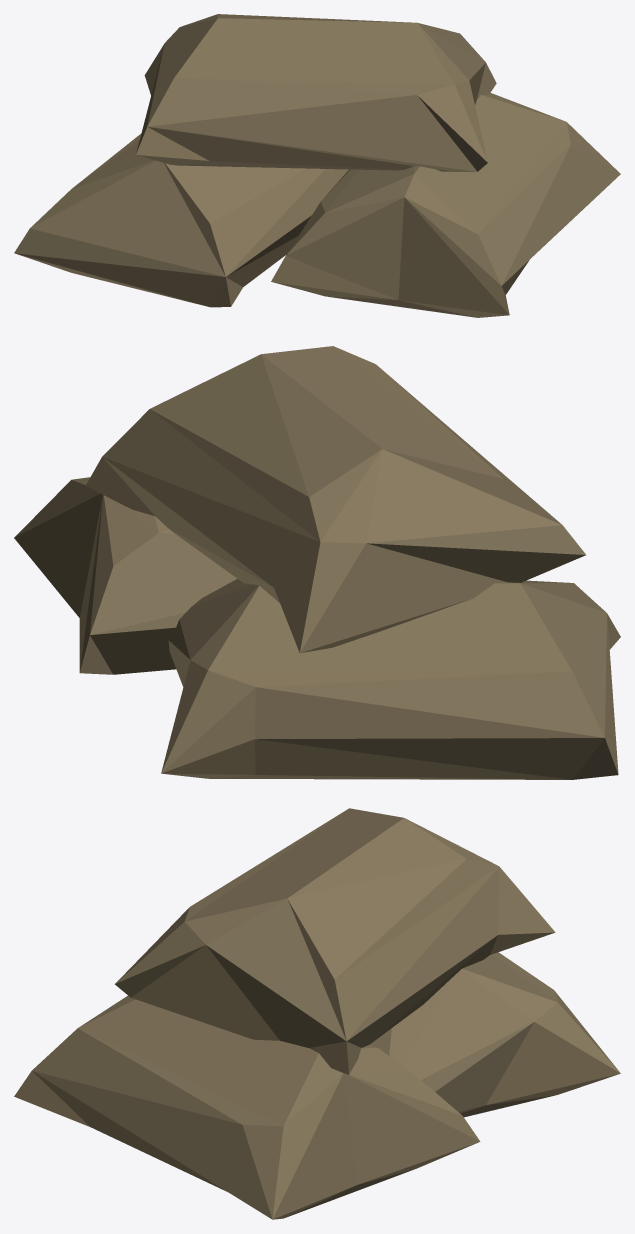
The model's file is Bags.glb.
3 renders of one model, top to bottom at view 1: azimuth 30°, elevation 25°; view 2: azimuth 150°, elevation 25°; view 3: azimuth 270°, elevation 25°, orthographic. The views are drawn at different scales.
Parts seen in each view (by area): view 1: Bags; view 2: Bags; view 3: Bags.
Boxes of the visible parts, x1,y1,x2,y2 form: Bags: (14,14,620,317); Bags: (14,346,620,779); Bags: (14,808,620,1219).
Bounding box in the file's own units: 0.2697 × 0.1053 × 0.2392.
